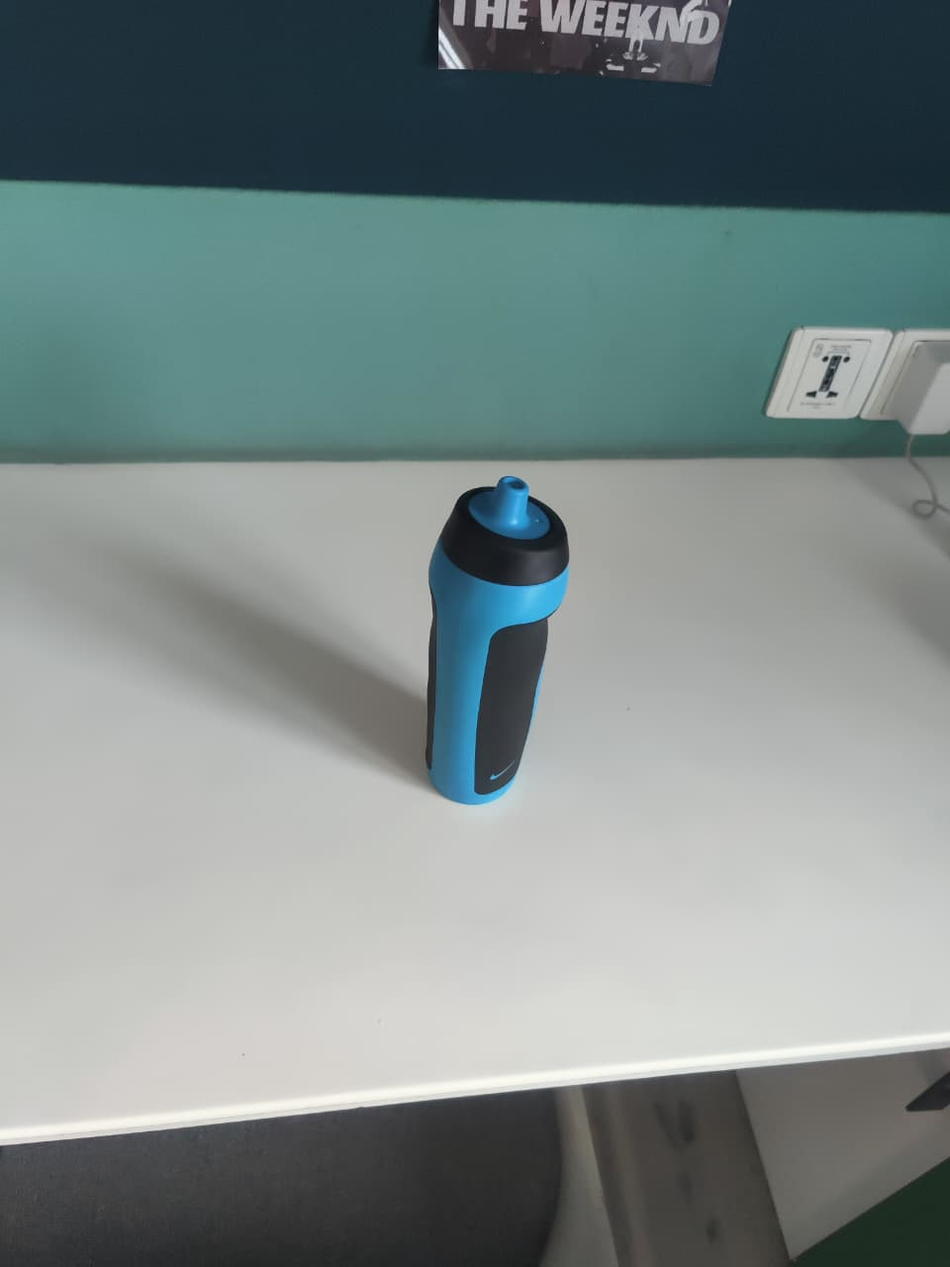bottle: (418, 474, 570, 806)
